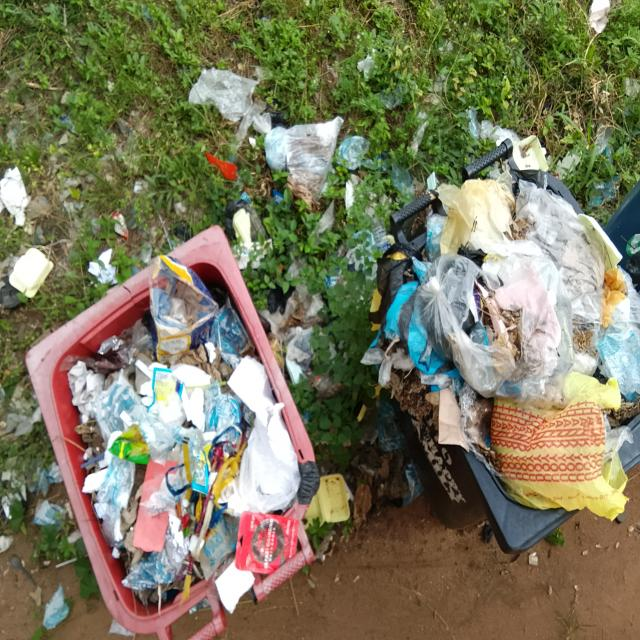full: (28, 228, 312, 620), (382, 180, 640, 544)
